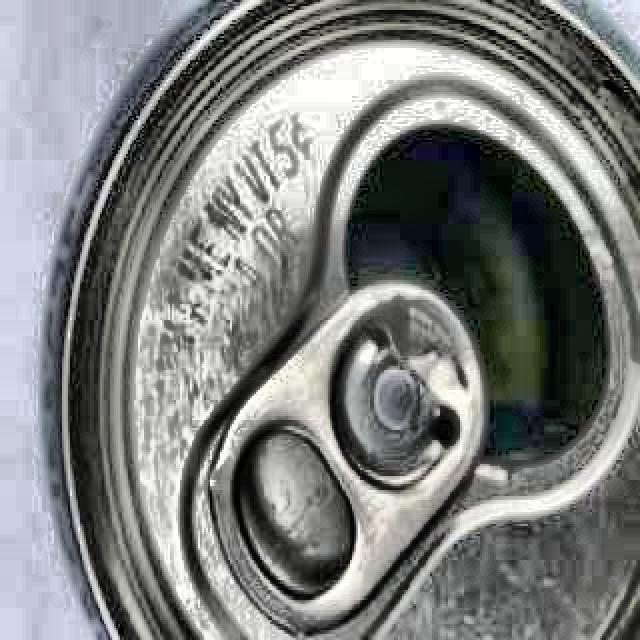metal: (35, 0, 640, 640)
